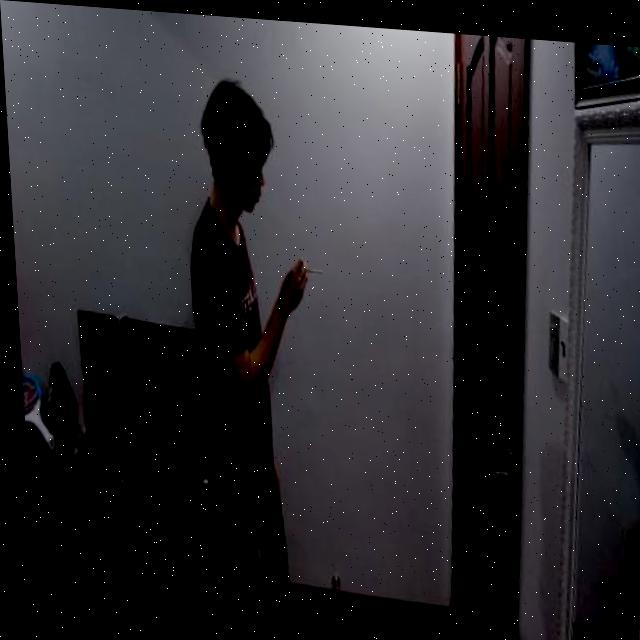cigarette: (301, 261, 322, 272)
